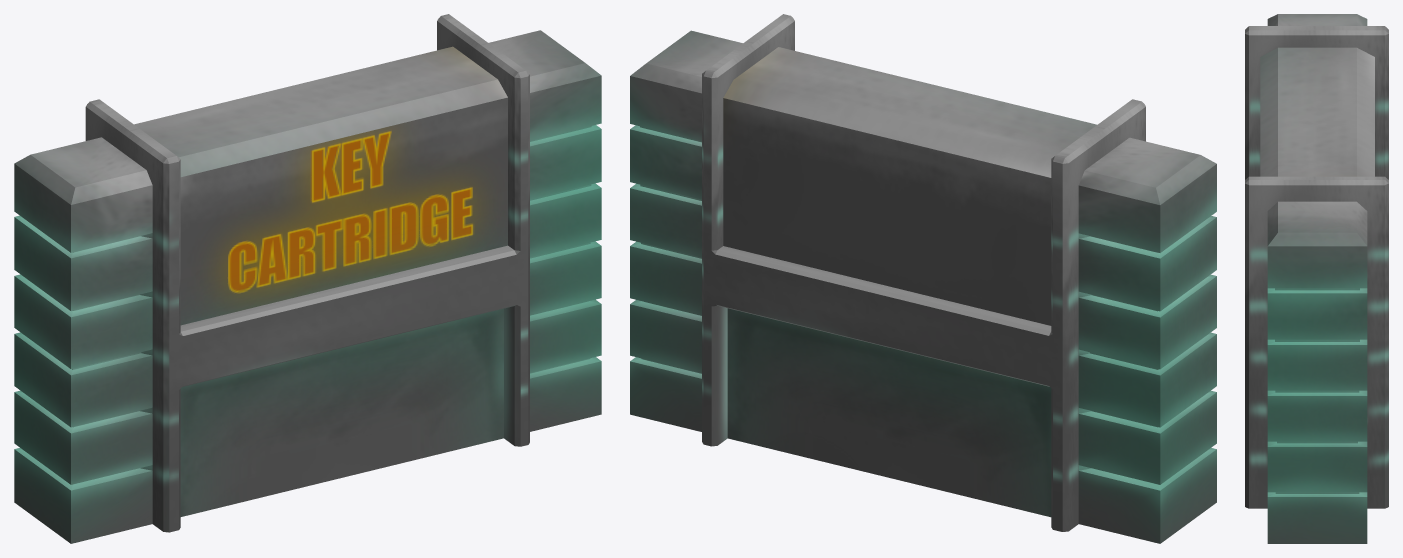
Rendered from sm_k_cartridge_1.fbx.
3 renders of one model, left to right at view 1: azimuth 30°, elevation 25°; view 2: azimuth 150°, elevation 25°; view 3: azimuth 270°, elevation 25°, orthographic. The views are drawn at different scales.
Parts seen in each view (by area): view 1: Cartridge; view 2: Cartridge; view 3: Cartridge.
Boxes of the visible parts, x1,y1,x2,y2 form: Cartridge: (14, 14, 601, 543); Cartridge: (630, 14, 1216, 543); Cartridge: (1245, 14, 1388, 543).
Bounding box in the file's own units: 55.34 × 37.14 × 14.79.
